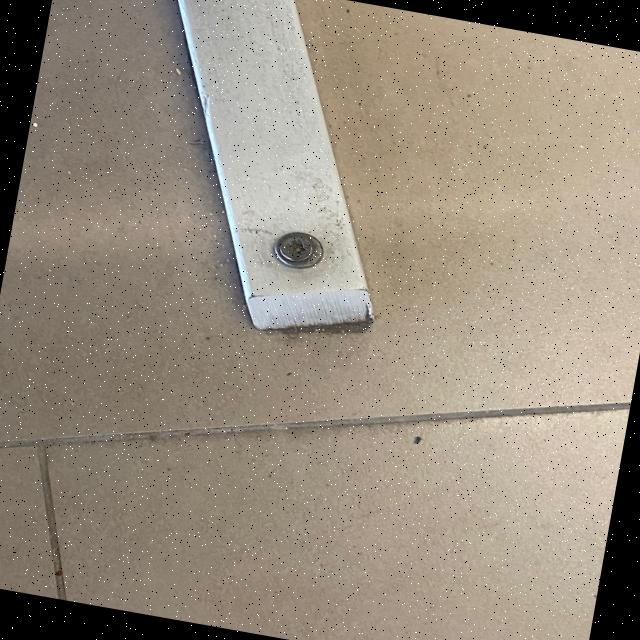Torx: (272, 230, 318, 262)
